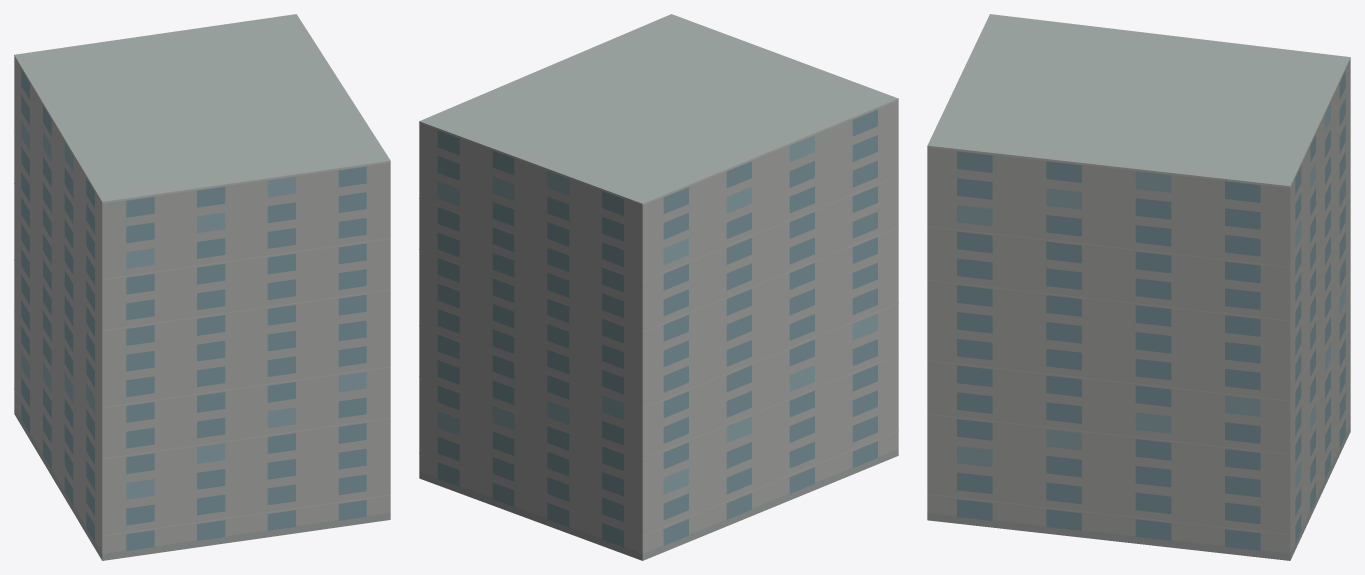
File: survey-upis-32746148.glb
The picture shows the model from 3 angles, left to right: view 1: azimuth 30°, elevation 25°; view 2: azimuth 150°, elevation 25°; view 3: azimuth 270°, elevation 25°; orthographic projection. The views are drawn at different scales.
Parts seen in each view (by area): view 1: survey-upis-32746148.tmp; view 2: survey-upis-32746148.tmp; view 3: survey-upis-32746148.tmp.
Boxes of the visible parts, x1=… form: survey-upis-32746148.tmp: x1=14, y1=14, x2=390, y2=560; survey-upis-32746148.tmp: x1=419, y1=14, x2=898, y2=560; survey-upis-32746148.tmp: x1=927, y1=14, x2=1350, y2=560.
Size of the model in its own units: 46.95 by 47.6 by 48.76.
